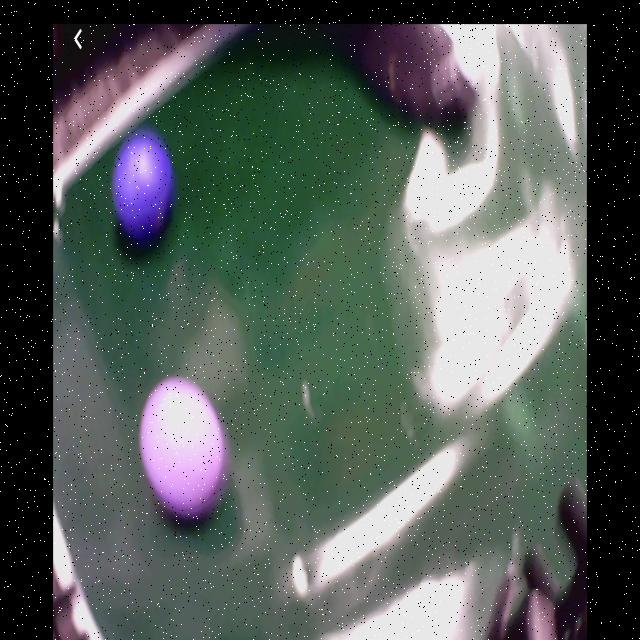ball: (141, 377, 225, 524), (113, 131, 175, 241)
